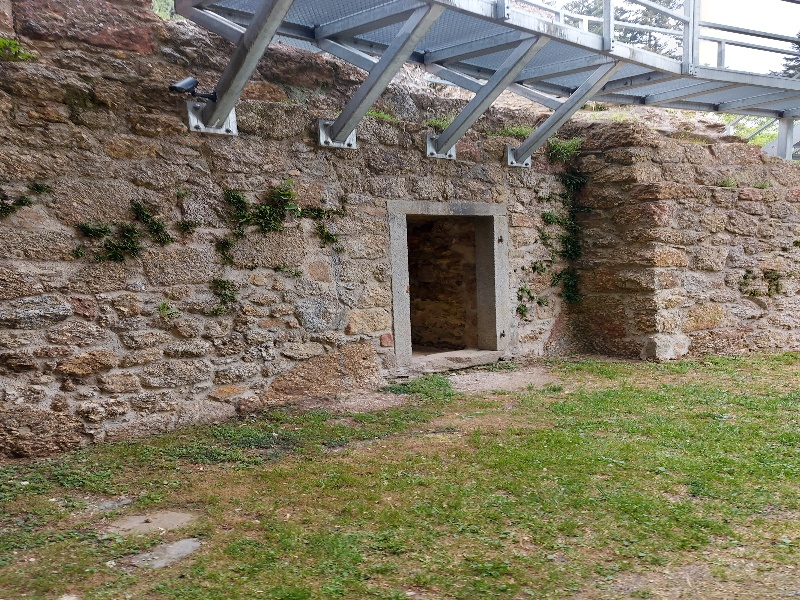door1: (380, 194, 519, 378)
